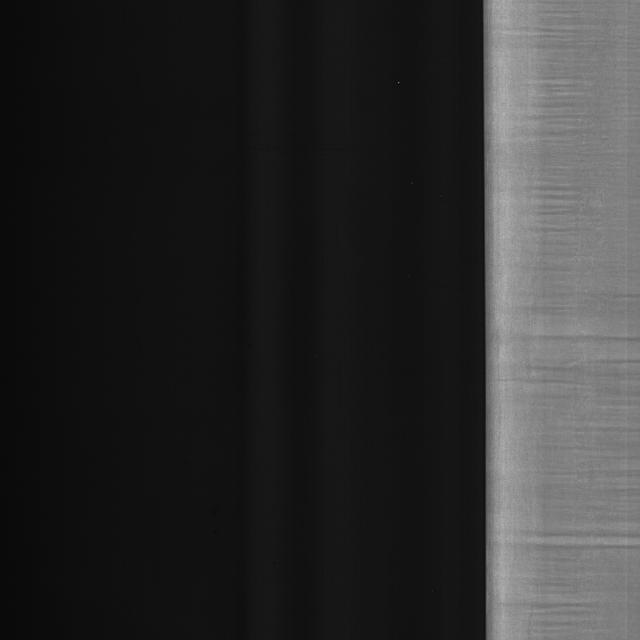punching_hole: (496, 48, 634, 612)
